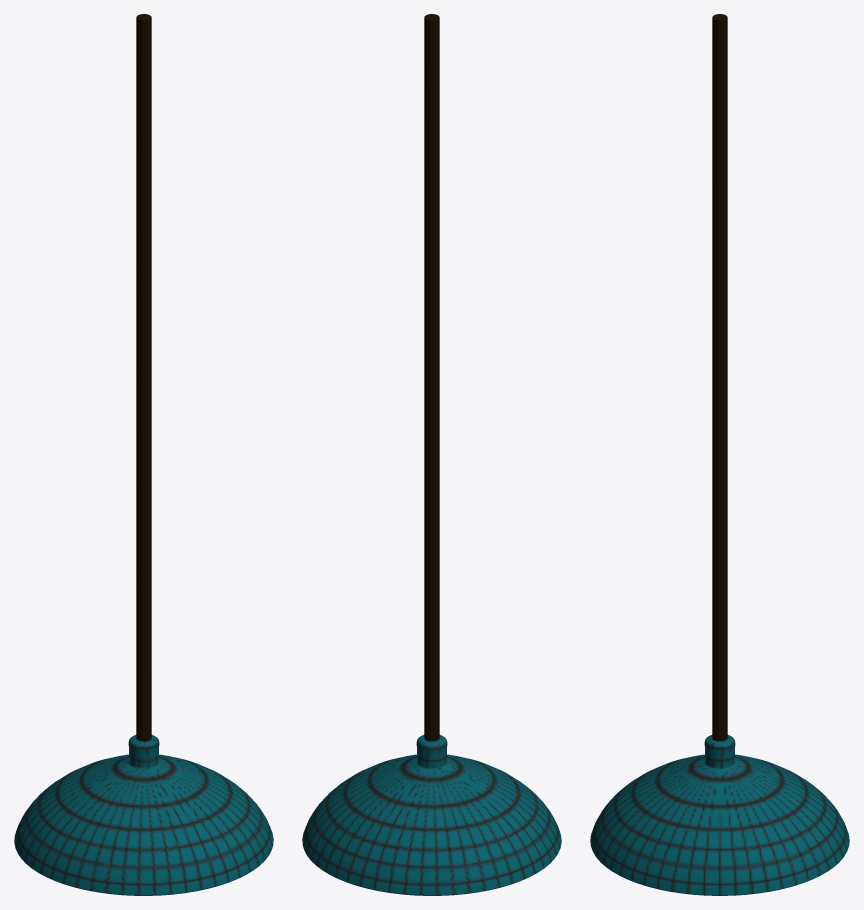
Rendered from Lampe.fbx.
The picture shows the model from 3 angles, left to right: view 1: azimuth 30°, elevation 25°; view 2: azimuth 150°, elevation 25°; view 3: azimuth 270°, elevation 25°; orthographic projection.
Parts seen in each view (by area): view 1: Lampe; view 2: Lampe; view 3: Lampe.
Boxes of the visible parts, left/top/right/bottom form: Lampe: left=14, top=14, right=273, bottom=895; Lampe: left=302, top=14, right=561, bottom=895; Lampe: left=590, top=14, right=849, bottom=895.
Bounding box in the file's own units: 73.99 × 259 × 73.99.
1 material, 1 textured.
